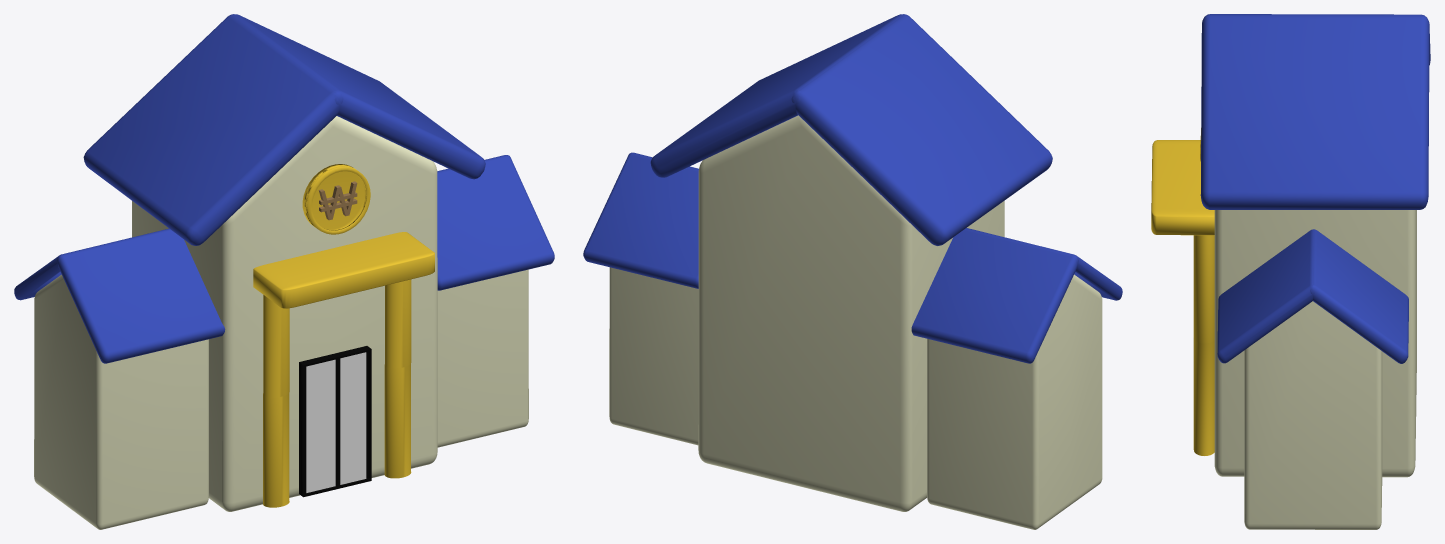
Rendered from bank.glb.
3 renders of one model, left to right at view 1: azimuth 30°, elevation 25°; view 2: azimuth 150°, elevation 25°; view 3: azimuth 270°, elevation 25°, orthographic. The views are drawn at different scales.
Visible parts, largest first — view 1: CenterBody, CenterRoof, LeftBody, LeftRoof, RightBody, RightRoof, PorchRoof, CenterDoorBorder, PorchPillar1, PorchPillar2, CenterDoor, WonCoin (+1 smaller); view 2: CenterBody, CenterRoof, LeftBody, LeftRoof, RightBody, RightRoof; view 3: CenterRoof, RightBody, CenterBody, RightRoof, PorchRoof, PorchPillar2.
Boxes of the visible parts, x1,y1,x2,y2 form: CenterBody: (132,116,437,511); CenterRoof: (83,14,485,245); LeftBody: (34,274,208,529); LeftRoof: (14,228,225,363); RightBody: (437,269,528,447); RightRoof: (437,155,554,290); PorchRoof: (253,232,434,308); CenterDoorBorder: (306,352,366,492); PorchPillar1: (263,295,289,507); PorchPillar2: (384,279,411,478); CenterDoor: (299,346,371,497); WonCoin: (302,164,370,234); CenterBody: (698,115,1004,511); CenterRoof: (650,14,1052,245); LeftBody: (927,274,1102,529); LeftRoof: (911,228,1122,363); RightBody: (609,267,698,445); RightRoof: (583,152,698,288); CenterRoof: (1200,14,1430,209); RightBody: (1244,301,1382,529); CenterBody: (1214,210,1416,477); RightRoof: (1217,229,1408,363); PorchRoof: (1151,140,1214,235); PorchPillar2: (1193,235,1214,455).
Size of the model in its own units: 2.38 by 2.02 by 1.24.
